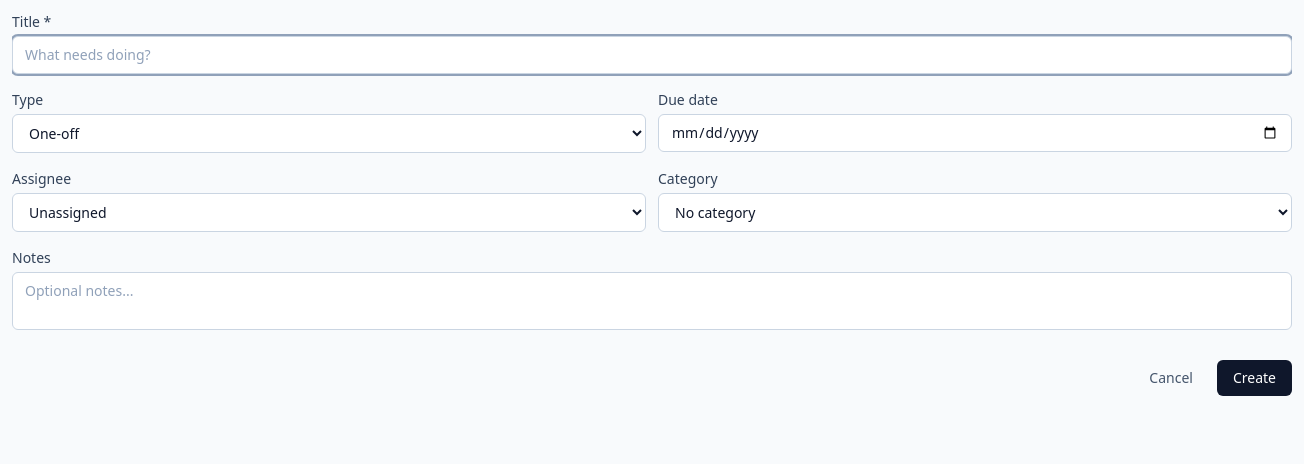
Scenario: TaskForm › recurrence fields shown when type is recurring
Select "Recurring" in the dropdown labelled "Type": (329, 134) [12,114,646,153]
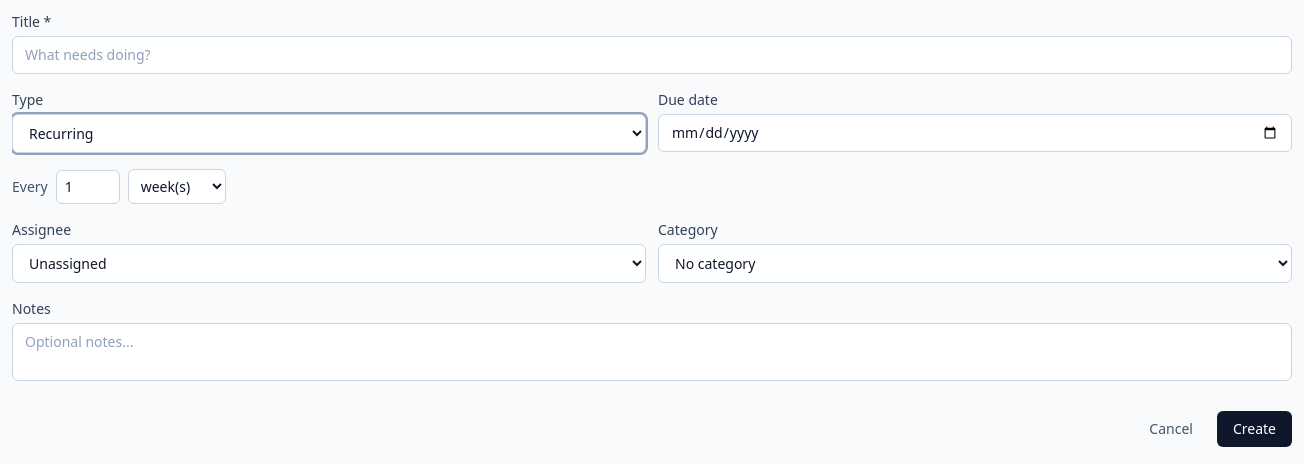
Check: the number field named "Repeat every N" is shown, box [56,170,120,204]
Check: the dropdown named "Repeat unit" is shown, box [128,169,226,204]
